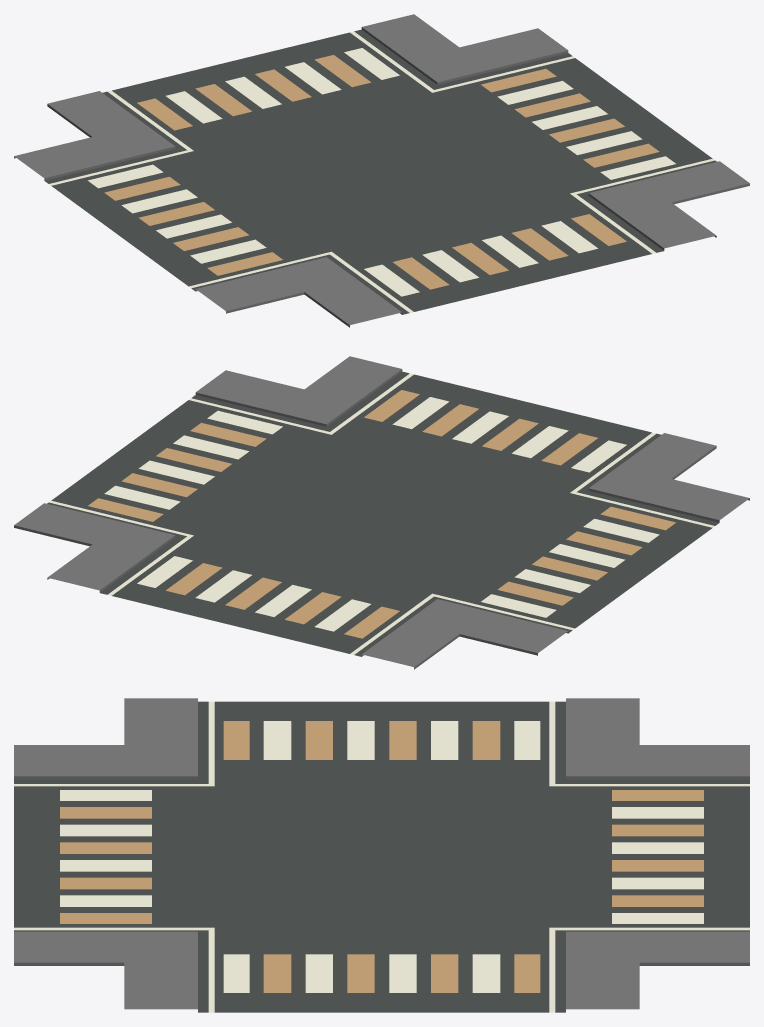
File: Road.obj
The picture shows the model from 3 angles, top to bottom: view 1: azimuth 30°, elevation 25°; view 2: azimuth 150°, elevation 25°; view 3: azimuth 270°, elevation 25°; orthographic projection. The views are drawn at different scales.
Visible parts, largest first — view 1: Road_Crossroads_1; view 2: Road_Crossroads_1; view 3: Road_Crossroads_1.
Boxes of the visible parts, x1,y1,x2,y2 form: Road_Crossroads_1: [14, 14, 749, 327]; Road_Crossroads_1: [14, 356, 749, 669]; Road_Crossroads_1: [14, 698, 749, 1012].
Size of the model in its own units: 0.42 by 0.00195 by 0.42.
1 material, 1 textured.
